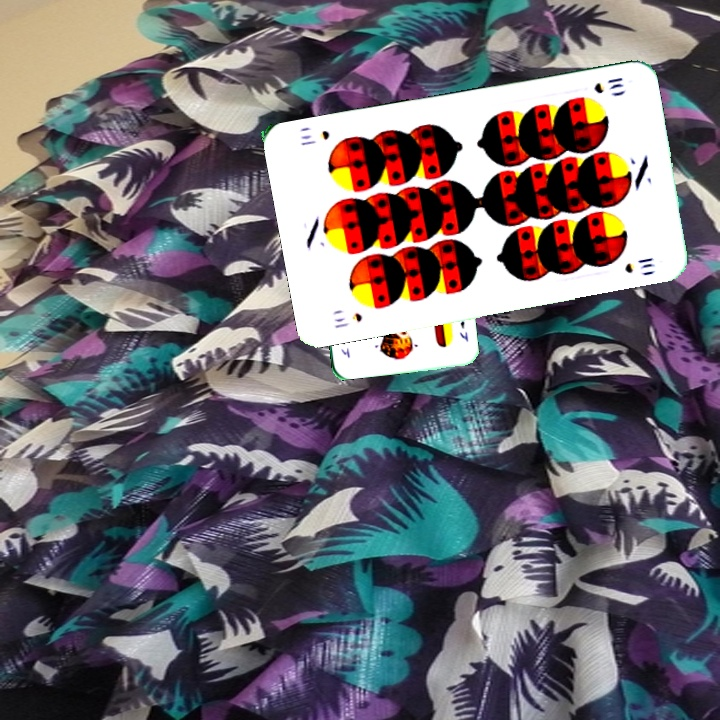EK: (456, 317, 471, 344)
S10: (590, 73, 626, 96), (330, 308, 365, 331)
